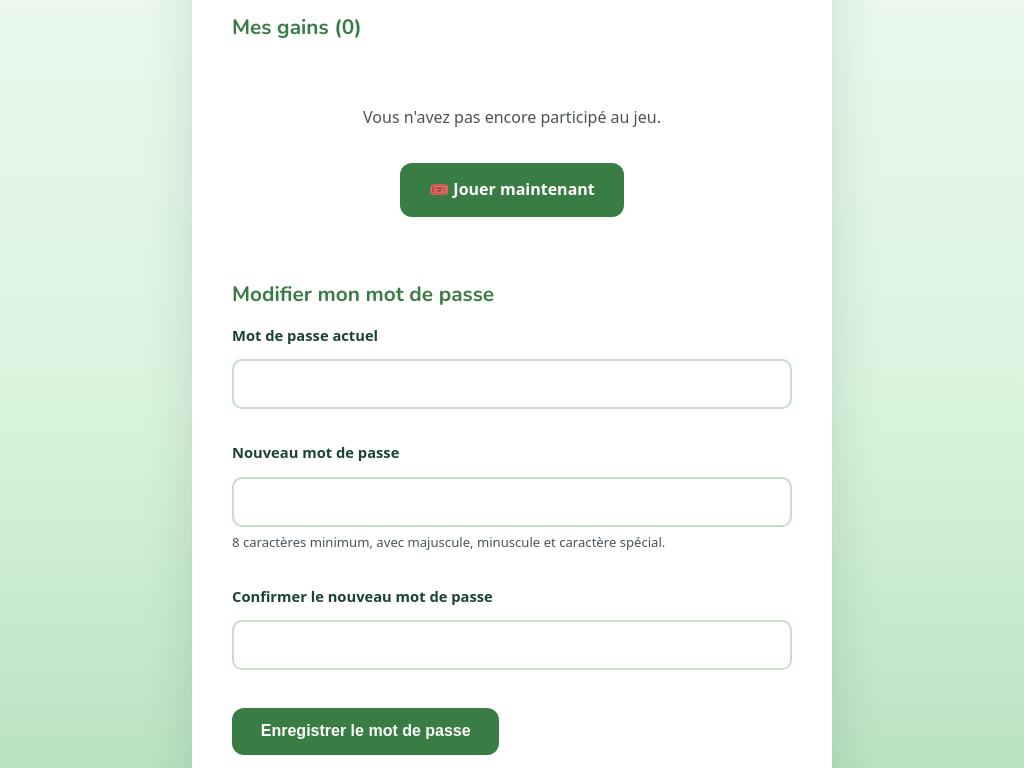
Test case: Profil › refuse un nouveau mot de passe trop faible
(page scrolled)
In the password field labelled "Mot de passe actuel": (512, 384) [232, 359, 792, 409], type "Password1!"
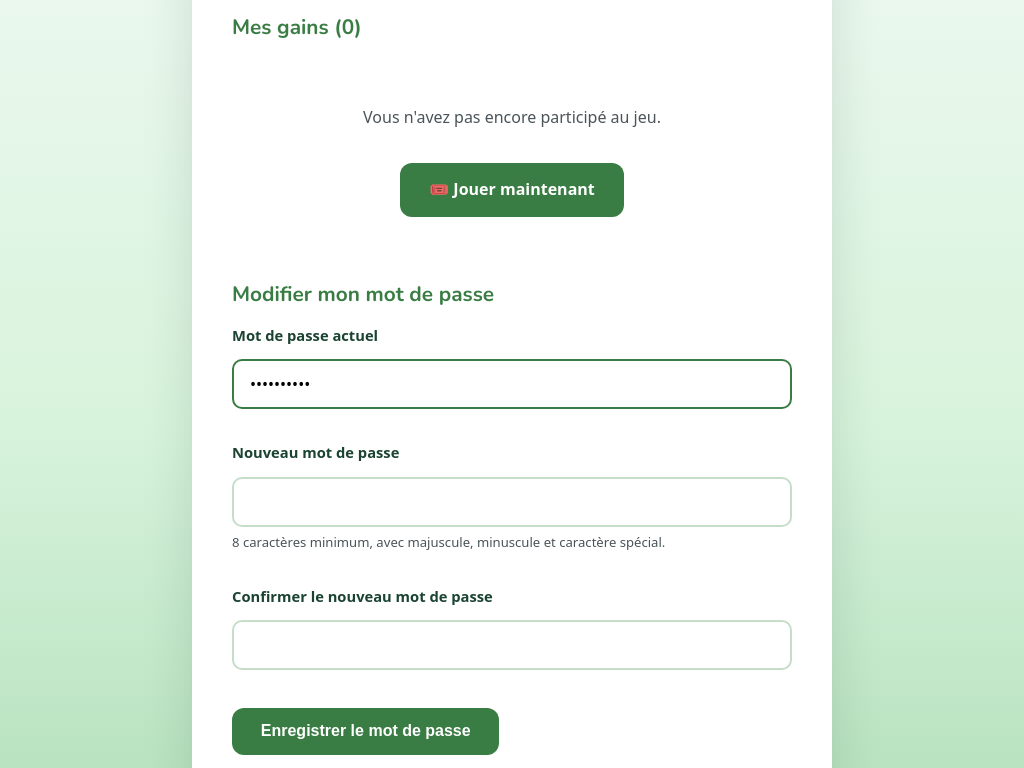
In the password field labelled "Nouveau mot de passe": (512, 502) [232, 476, 792, 526], type "faible"
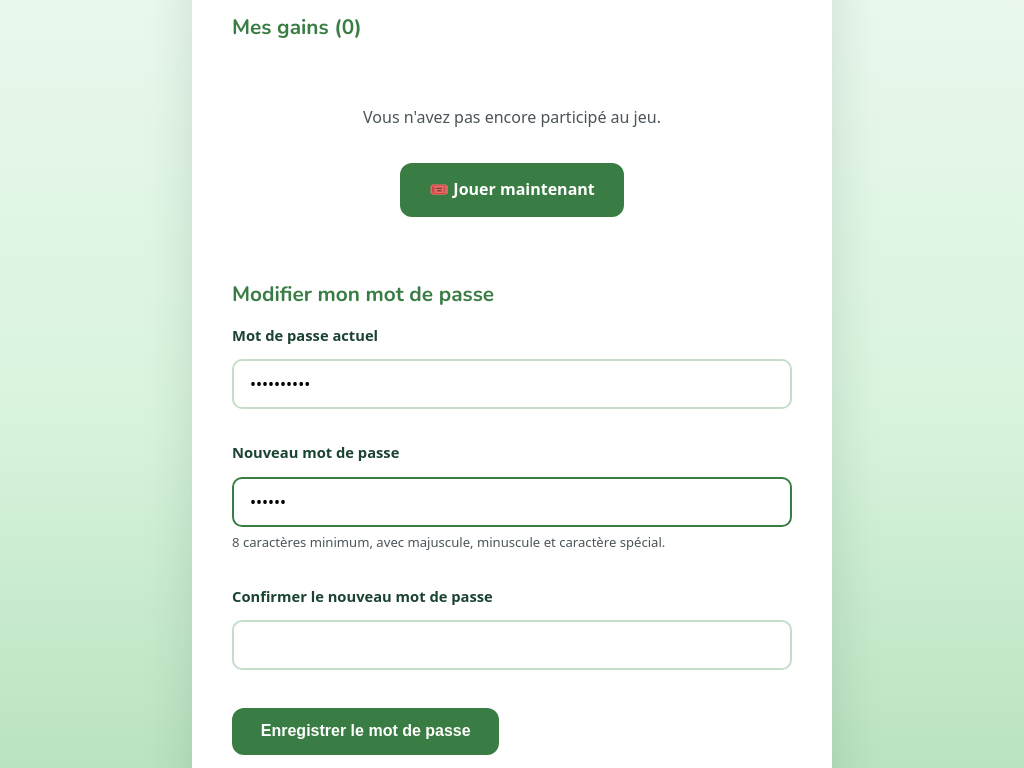
In the password field labelled "Confirmer le nouveau mot de passe": (512, 645) [232, 620, 792, 670], type "faible"
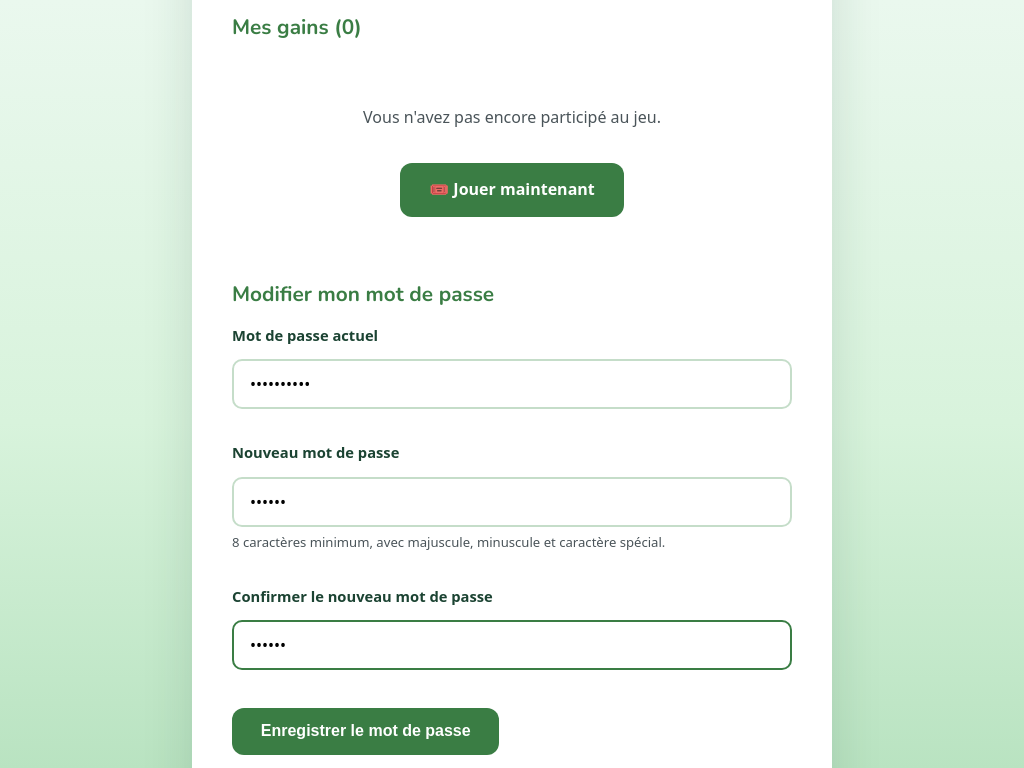
Click the button "Enregistrer le mot de passe": (366, 731) [232, 708, 500, 755]
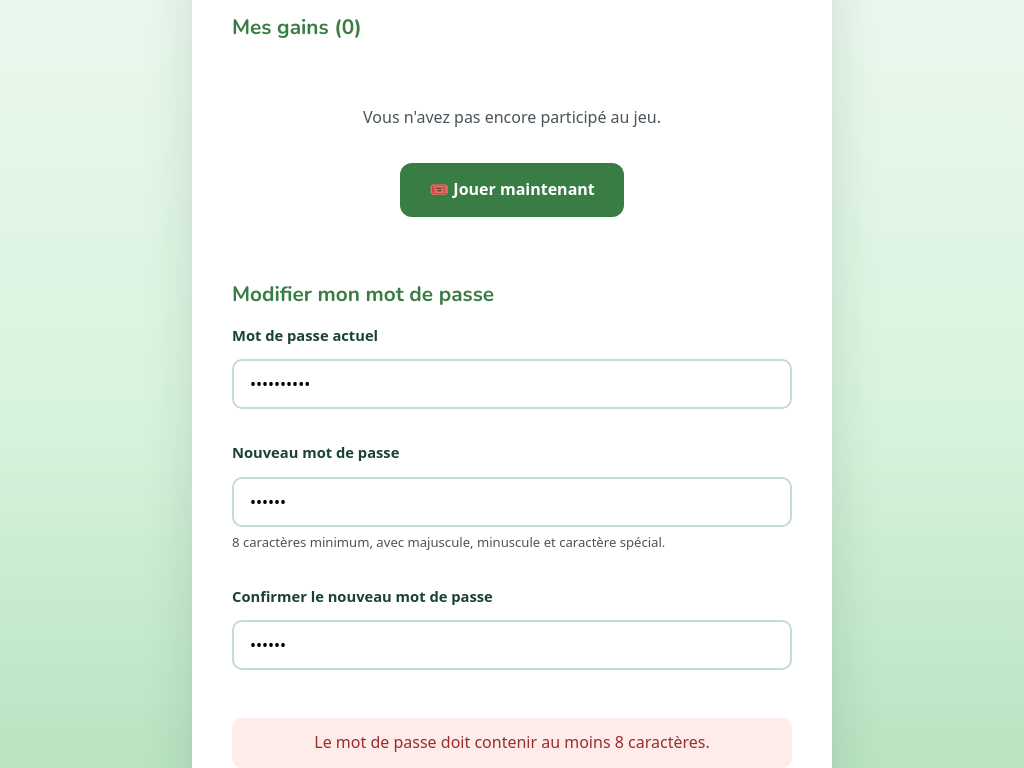
Expected: the message reads "Le mot de passe doit contenir au moins 8 caractères.", [314, 731, 710, 753]
